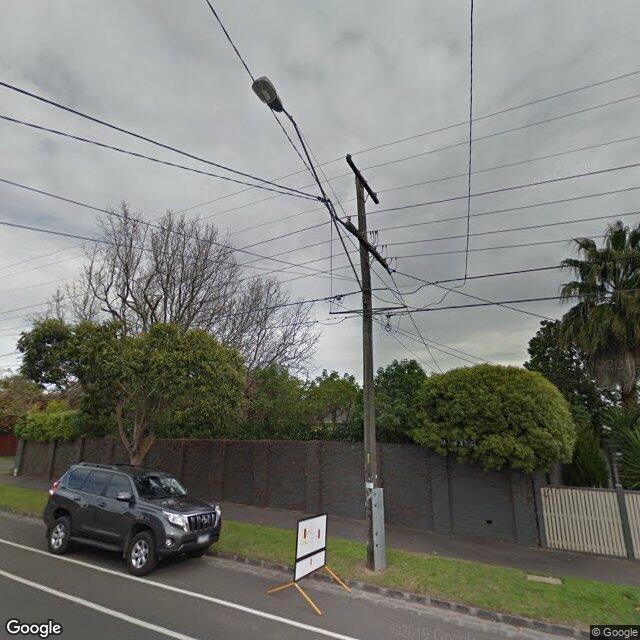crossarm: (344, 222, 389, 269), (346, 156, 379, 204)
streetlight: (251, 75, 365, 295)
timber-pole: (355, 175, 383, 571)
